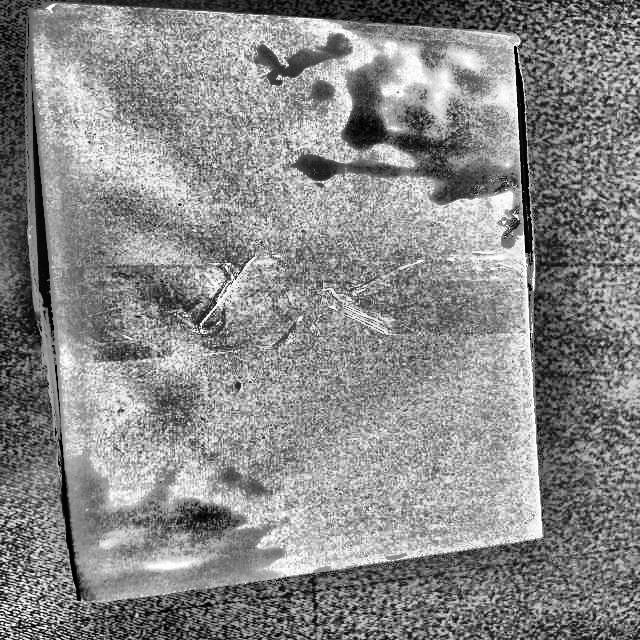box: (26, 0, 548, 604)
wet: (272, 22, 544, 260), (55, 456, 298, 620)
